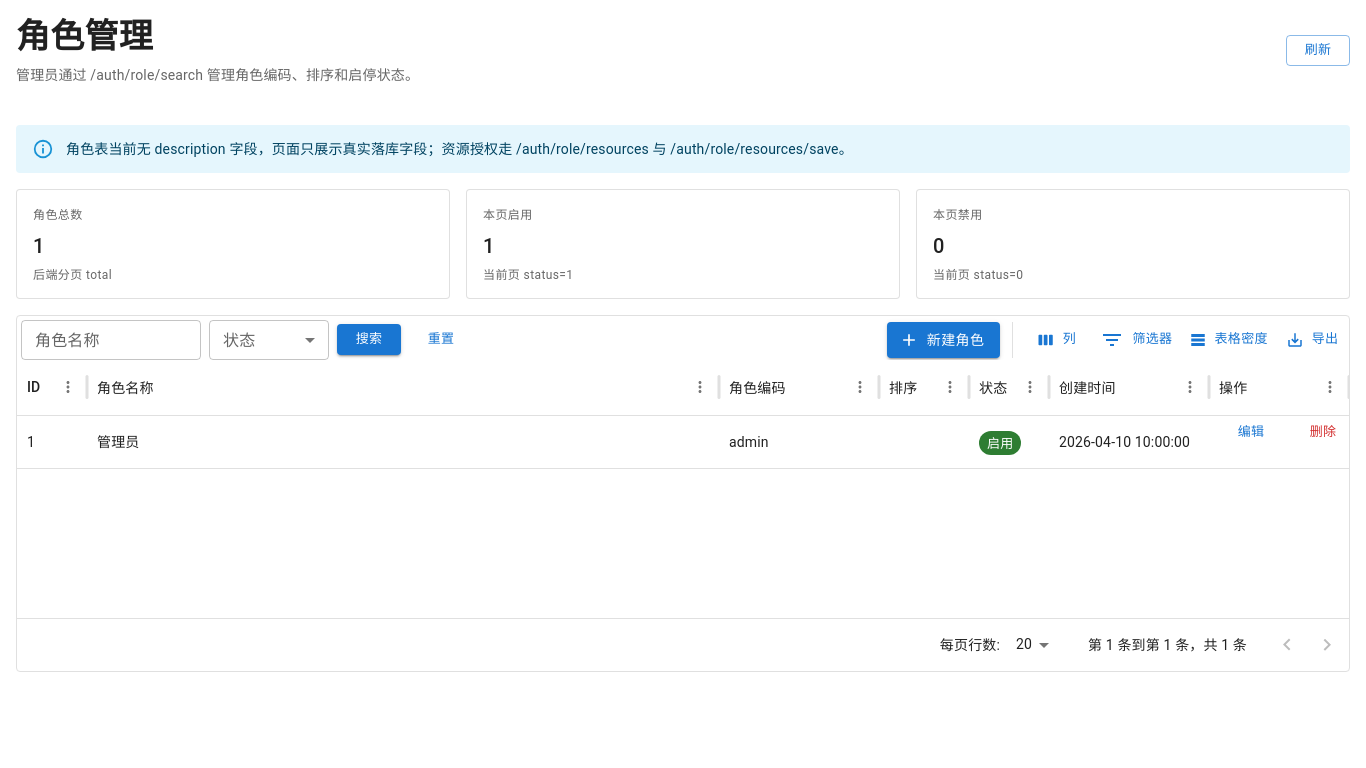
Test: RolesPage › shows endpoint error when delete fails and keeps role row plus confirm context
Expected: the text "管理员" is shown, x1=97 y1=434 x2=140 y2=450
Click the button "删除" at coordinates (1323, 432), box x1=1291 y1=417 x2=1355 y2=448
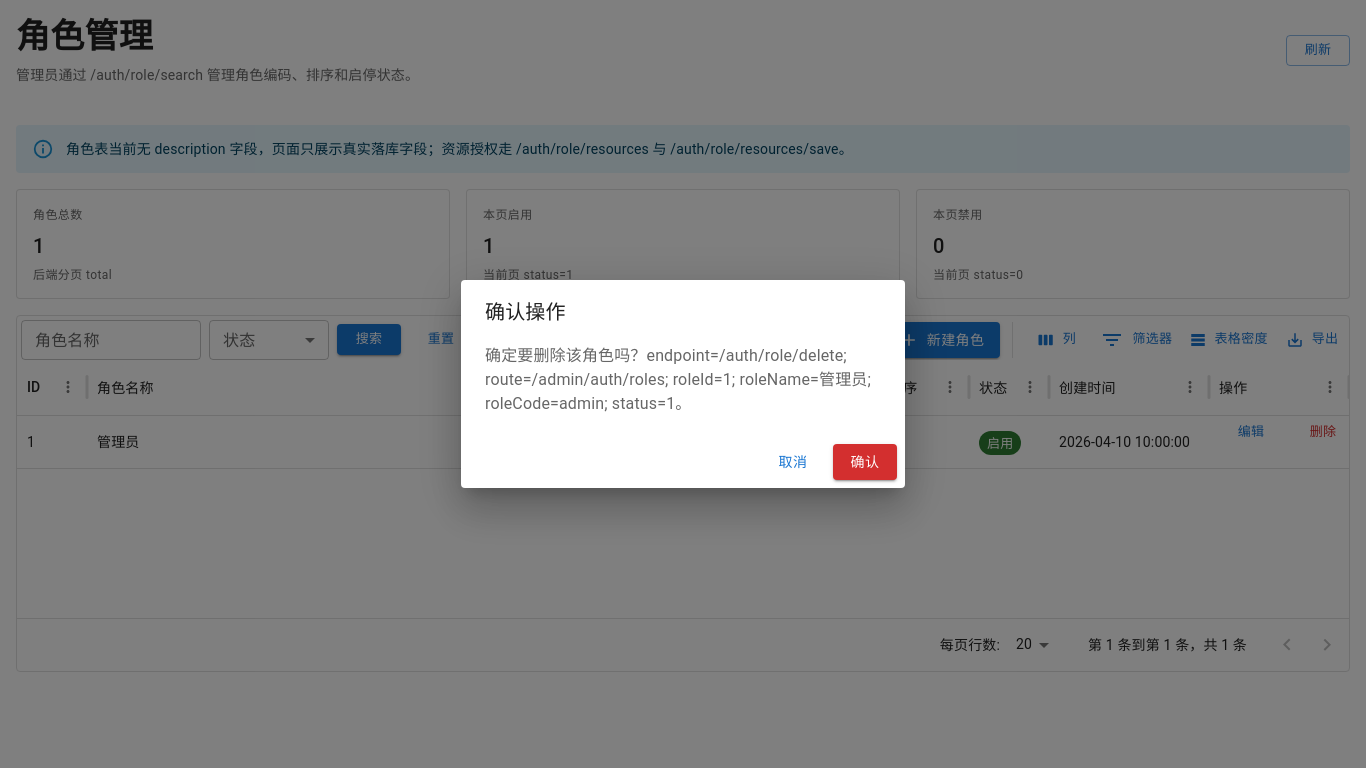
Now the text "endpoint=/auth/role/delete; route=/admin/auth/roles; roleId=1; roleName=管理员; roleCode=admin" is shown, box x1=485 y1=346 x2=871 y2=413
Click the button "确认" at coordinates (865, 462), box x1=833 y1=444 x2=897 y2=480
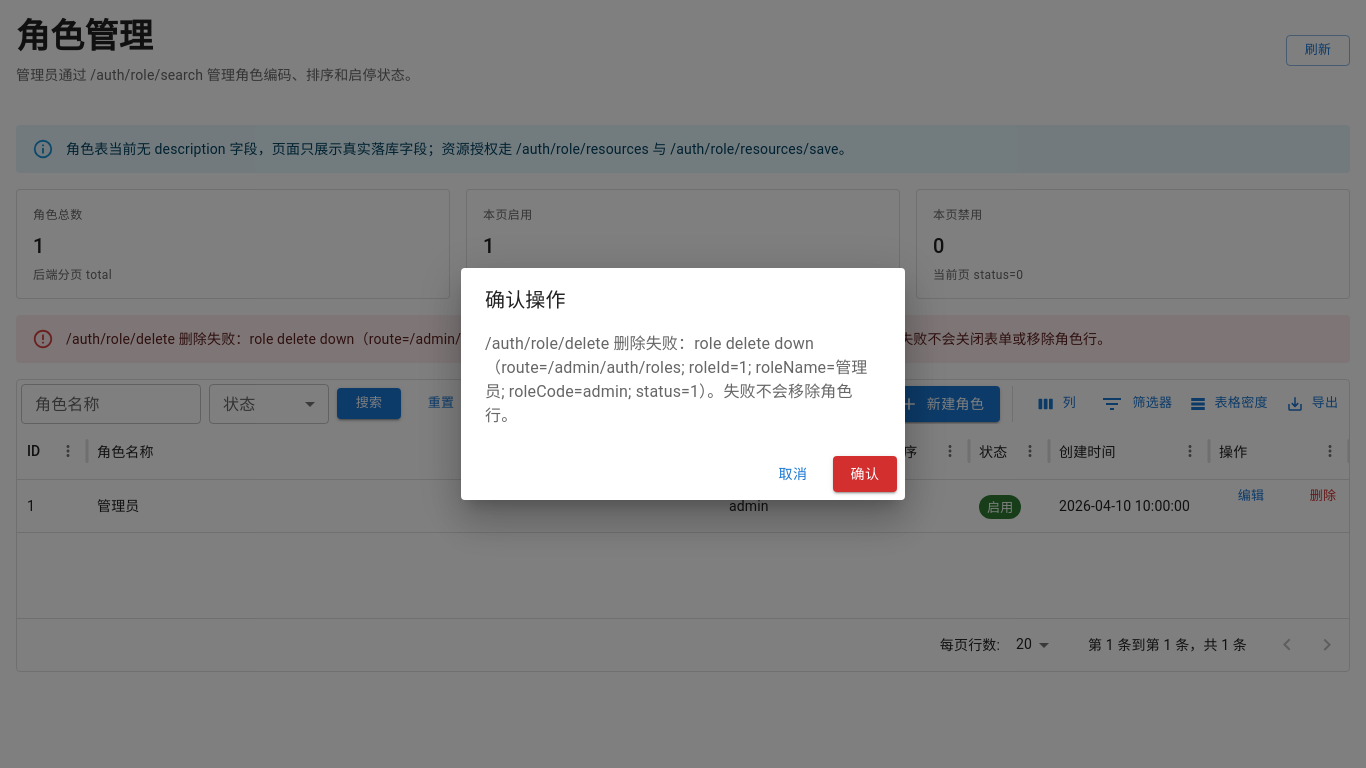
Expected: the text "管理员" is shown, x1=97 y1=498 x2=140 y2=514
Now the dialog "确认操作" is shown, box x1=461 y1=268 x2=905 y2=500
Now the text "roleId=1; roleName=管理员; roleCode=admin" is shown, box x1=66 y1=331 x2=885 y2=347
